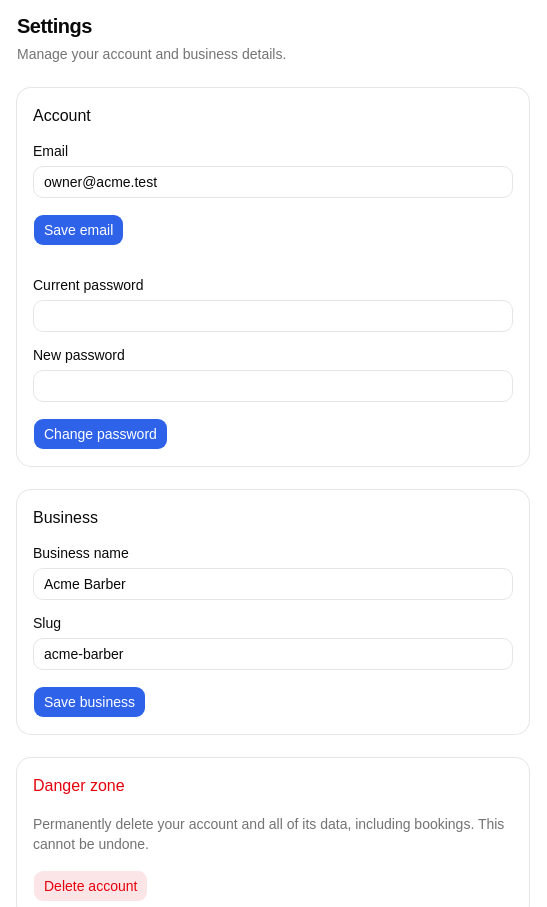
Test: Settings page › changes the password and shows confirmation
Type "old-password" into the password field labelled "Current password" at {"x": 273, "y": 316}, box [33,300,513,332]
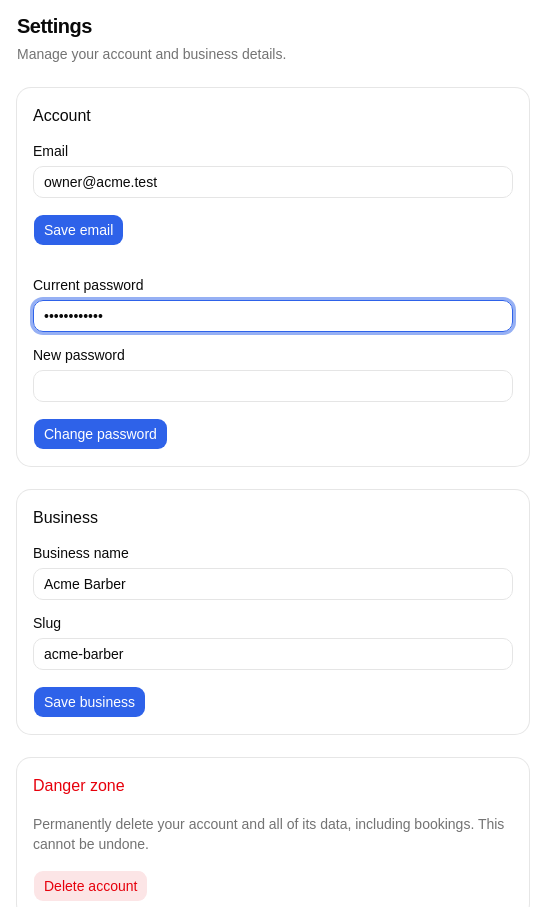
Type "brand-new-password" into the password field labelled "New password" at {"x": 273, "y": 386}, box [33,370,513,402]
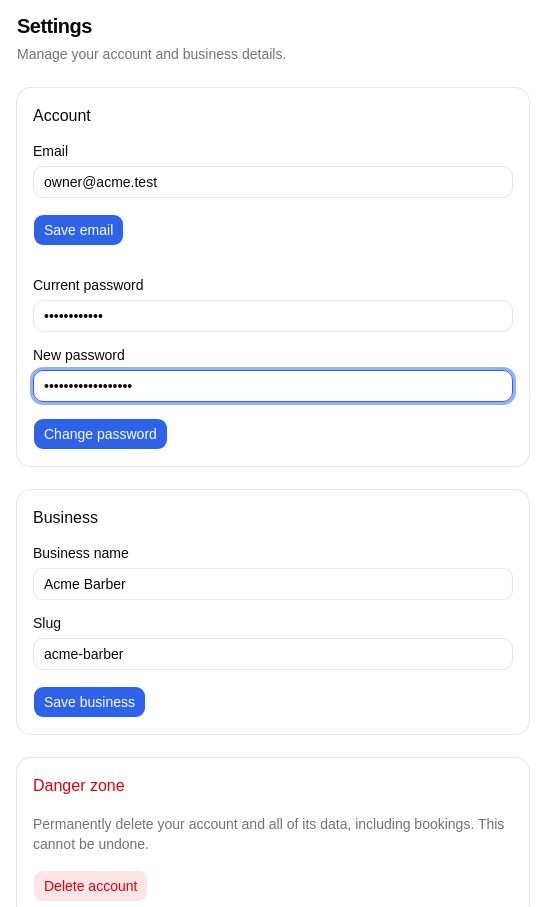
Click the button "Change password" at {"x": 100, "y": 434}, box [33,418,168,450]
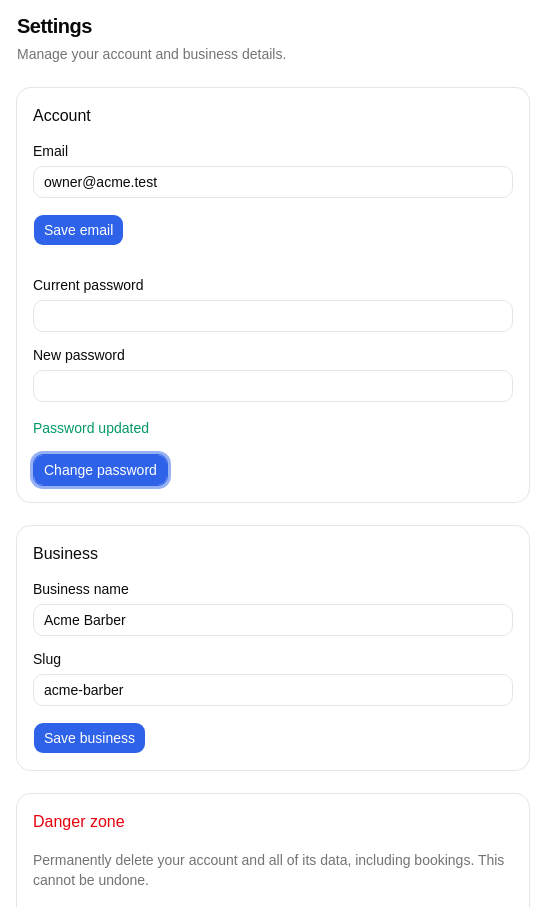
Result: the text "Password updated" is shown at [33,420,149,436]
